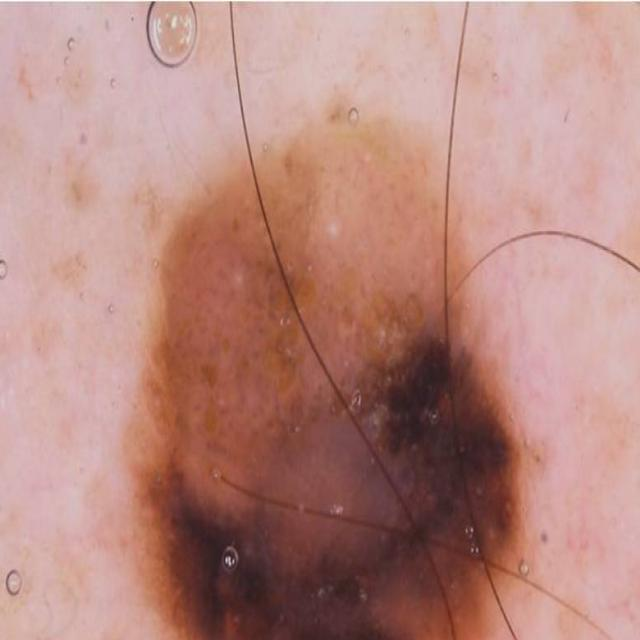Melanoma: (119, 129, 537, 640)
